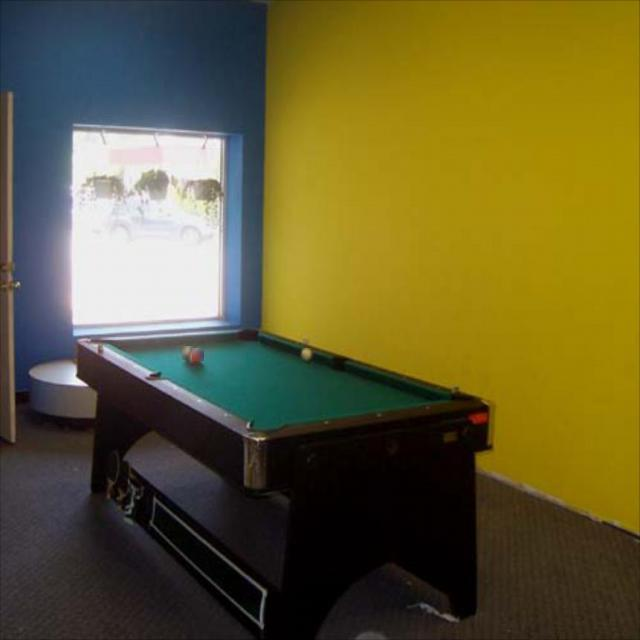Ball: (299, 348, 314, 363), (188, 352, 200, 366), (192, 348, 204, 361), (182, 346, 193, 360)
Billiard table: (78, 327, 494, 443)
